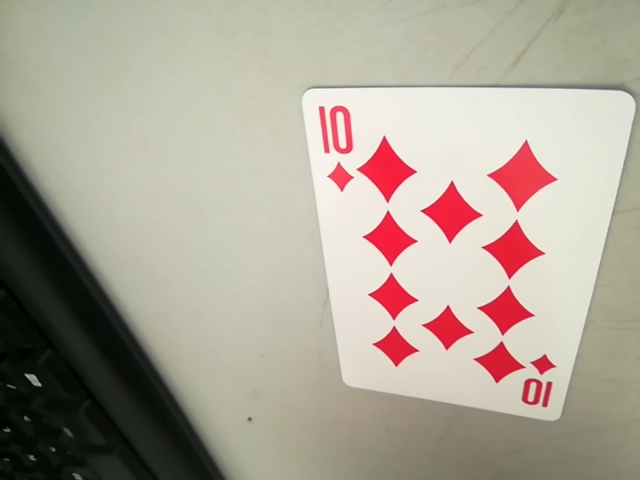fk 10: (312, 95, 366, 169), (513, 354, 559, 416)
